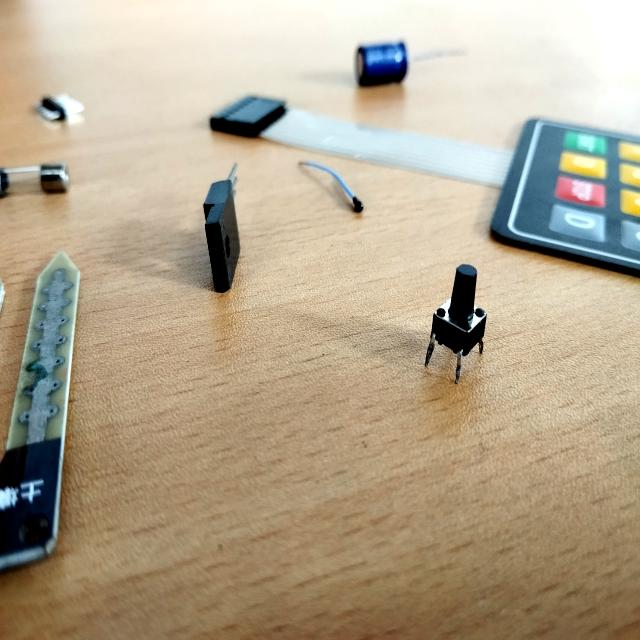Capacitor-470mf: (337, 28, 469, 107)
Fuse: (0, 140, 80, 220)
IGBT: (187, 148, 263, 307)
Keypad: (475, 100, 640, 310)
NTC-Thermistor: (289, 144, 373, 249)
Pin-Header: (27, 78, 95, 142)
Soil-Moisture-Sensor: (0, 235, 97, 600)
Tact-Switch: (410, 242, 509, 412)
